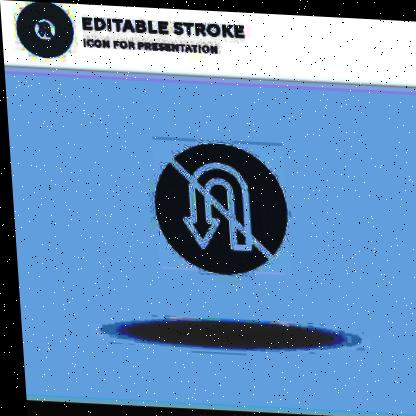No U-turn: (138, 133, 295, 281)
